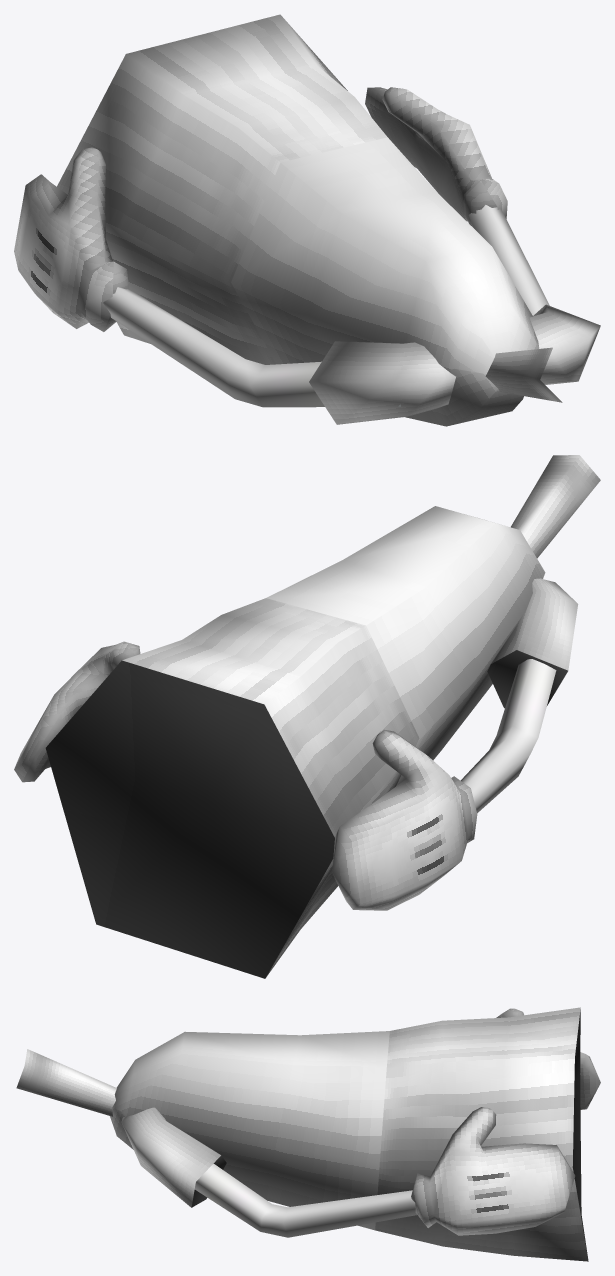
File: torso_ld.glb
3 views of the same model, one above another, from view 1: azimuth 30°, elevation 25°; view 2: azimuth 150°, elevation 25°; view 3: azimuth 270°, elevation 25° (orthographic). The views are drawn at different scales.
Visible parts, largest first — view 1: torso-bot, torso-top, hands, sleeves, arms, neck; view 2: torso-bot, torso-top, hands, arms, sleeves, neck; view 3: torso-top, torso-bot, hands, arms, sleeves, neck.
Boxes of the visible parts, left/top/right/bottom form: torso-bot: left=57, top=14, right=387, bottom=364; torso-top: left=231, top=137, right=539, bottom=426; hands: left=14, top=87, right=507, bottom=331; sleeves: left=309, top=304, right=600, bottom=424; arms: left=103, top=205, right=549, bottom=407; neck: left=485, top=347, right=562, bottom=402; torso-bot: left=45, top=598, right=419, bottom=978; torso-top: left=266, top=506, right=545, bottom=785; hands: left=14, top=641, right=477, bottom=910; arms: left=460, top=659, right=556, bottom=813; sleeves: left=487, top=578, right=578, bottom=708; neck: left=511, top=455, right=600, bottom=558; torso-top: left=110, top=1031, right=389, bottom=1230; torso-bot: left=375, top=1007, right=588, bottom=1261; hands: left=411, top=1008, right=600, bottom=1235; arms: left=194, top=1164, right=416, bottom=1237; sleeves: left=121, top=1107, right=226, bottom=1207; neck: left=16, top=1049, right=116, bottom=1116.
Size of the model in its own units: 2.05 by 1.32 by 3.33.
Materials: 6 (6 with a texture image).
